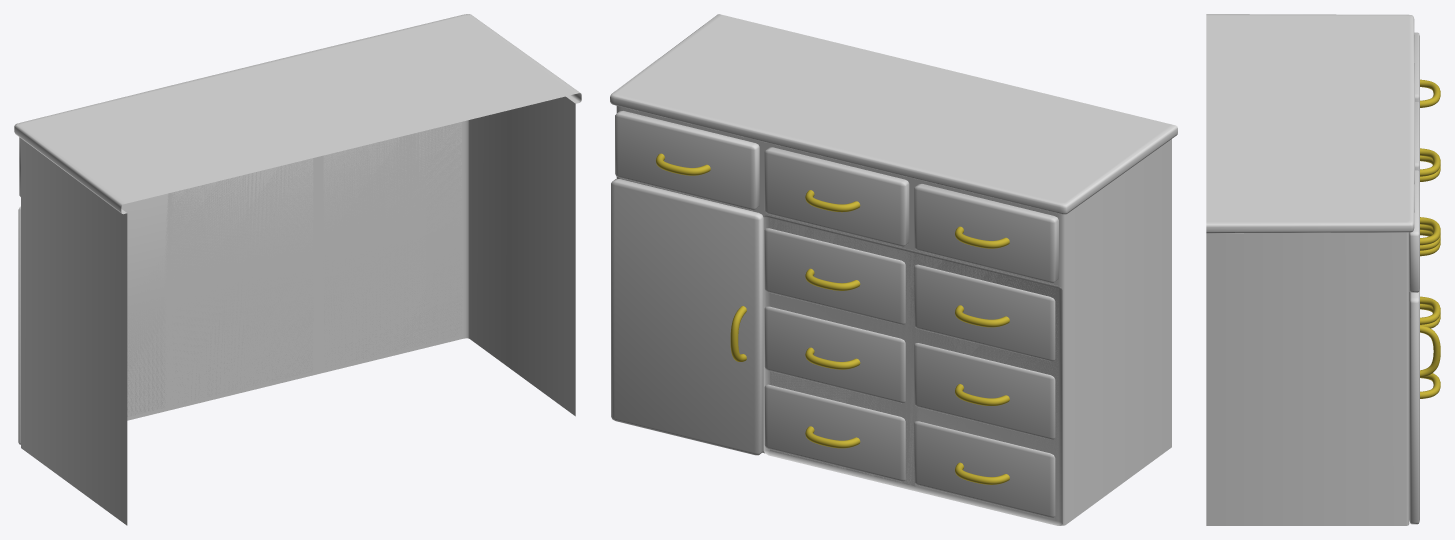
Rendered from Shelf_2.fbx.
3 renders of one model, left to right at view 1: azimuth 30°, elevation 25°; view 2: azimuth 150°, elevation 25°; view 3: azimuth 270°, elevation 25°, orthographic. The views are drawn at different scales.
Visible parts, largest first — view 1: Cube.007; view 2: Cube.007, Cube.008, NurbsPath.009, NurbsPath.008; view 3: Cube.007, NurbsPath.009, NurbsPath.008, NurbsPath.006, NurbsPath.007.
Boxes of the visible parts, x1,y1,x2,y2 form: Cube.007: (14, 14, 581, 525); Cube.007: (610, 14, 1177, 525); Cube.008: (764, 150, 1055, 517); NurbsPath.009: (805, 190, 860, 448); NurbsPath.008: (955, 226, 1009, 484); Cube.007: (1206, 14, 1419, 525); NurbsPath.009: (1420, 148, 1440, 398); NurbsPath.008: (1420, 79, 1440, 328); NurbsPath.006: (1420, 325, 1440, 377); NurbsPath.007: (1420, 217, 1440, 245).
Size of the model in its own units: 123 by 82.51 by 57.74.
